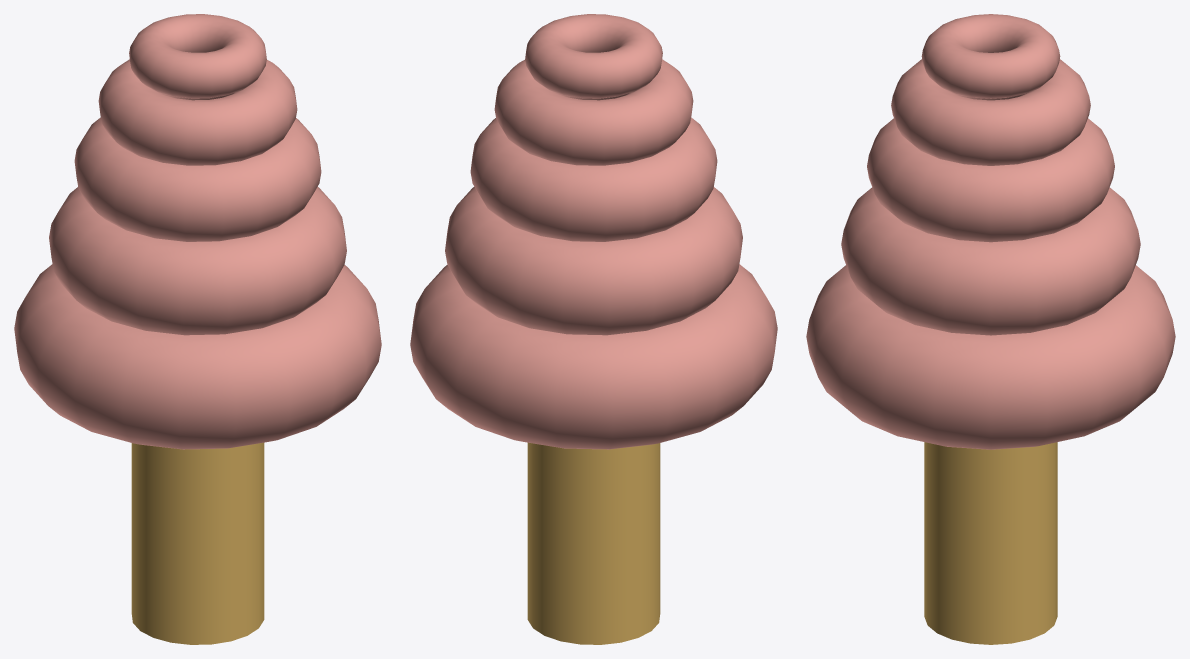
Rendered from donuts_rosa.fbx.
The picture shows the model from 3 angles, left to right: view 1: azimuth 30°, elevation 25°; view 2: azimuth 150°, elevation 25°; view 3: azimuth 270°, elevation 25°; orthographic projection.
Visible parts, largest first — view 1: pTorus1, pTorus2, arvore2, pTorus3, pTorus4, pTorus5; view 2: pTorus1, pTorus2, arvore2, pTorus3, pTorus4, pTorus5; view 3: pTorus1, pTorus2, arvore2, pTorus3, pTorus4, pTorus5.
Part boxes in pixels (bbox=[...]): pTorus1: bbox=[14, 264, 381, 449]; pTorus2: bbox=[49, 187, 346, 335]; arvore2: bbox=[131, 442, 264, 644]; pTorus3: bbox=[74, 117, 321, 241]; pTorus4: bbox=[98, 59, 297, 165]; pTorus5: bbox=[129, 14, 266, 98]; pTorus1: bbox=[410, 264, 777, 449]; pTorus2: bbox=[445, 187, 742, 335]; arvore2: bbox=[527, 442, 660, 644]; pTorus3: bbox=[470, 117, 717, 241]; pTorus4: bbox=[494, 59, 693, 165]; pTorus5: bbox=[525, 14, 662, 98]; pTorus1: bbox=[806, 265, 1175, 449]; pTorus2: bbox=[841, 187, 1140, 335]; arvore2: bbox=[924, 442, 1057, 644]; pTorus3: bbox=[867, 118, 1114, 242]; pTorus4: bbox=[891, 59, 1090, 165]; pTorus5: bbox=[921, 14, 1060, 98].
Bounding box in the file's own units: 1.57 × 2.73 × 1.57.
